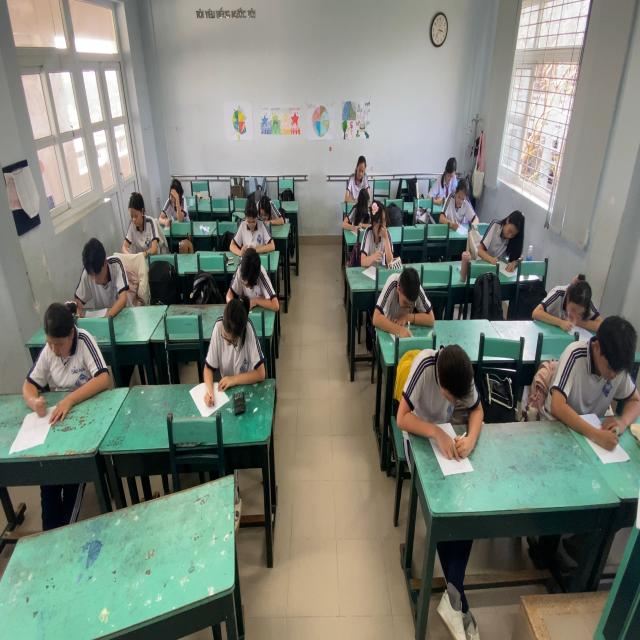not_cheating: (554, 302, 639, 430), (22, 298, 102, 405), (189, 295, 265, 385), (406, 342, 478, 437), (76, 236, 119, 322), (480, 194, 531, 264), (530, 274, 598, 322), (378, 268, 433, 326), (228, 240, 277, 302), (125, 188, 156, 260), (368, 194, 398, 266), (154, 178, 188, 229), (238, 197, 268, 246), (433, 150, 459, 202), (344, 149, 371, 195), (449, 181, 476, 225), (348, 188, 373, 232), (254, 197, 277, 228)
